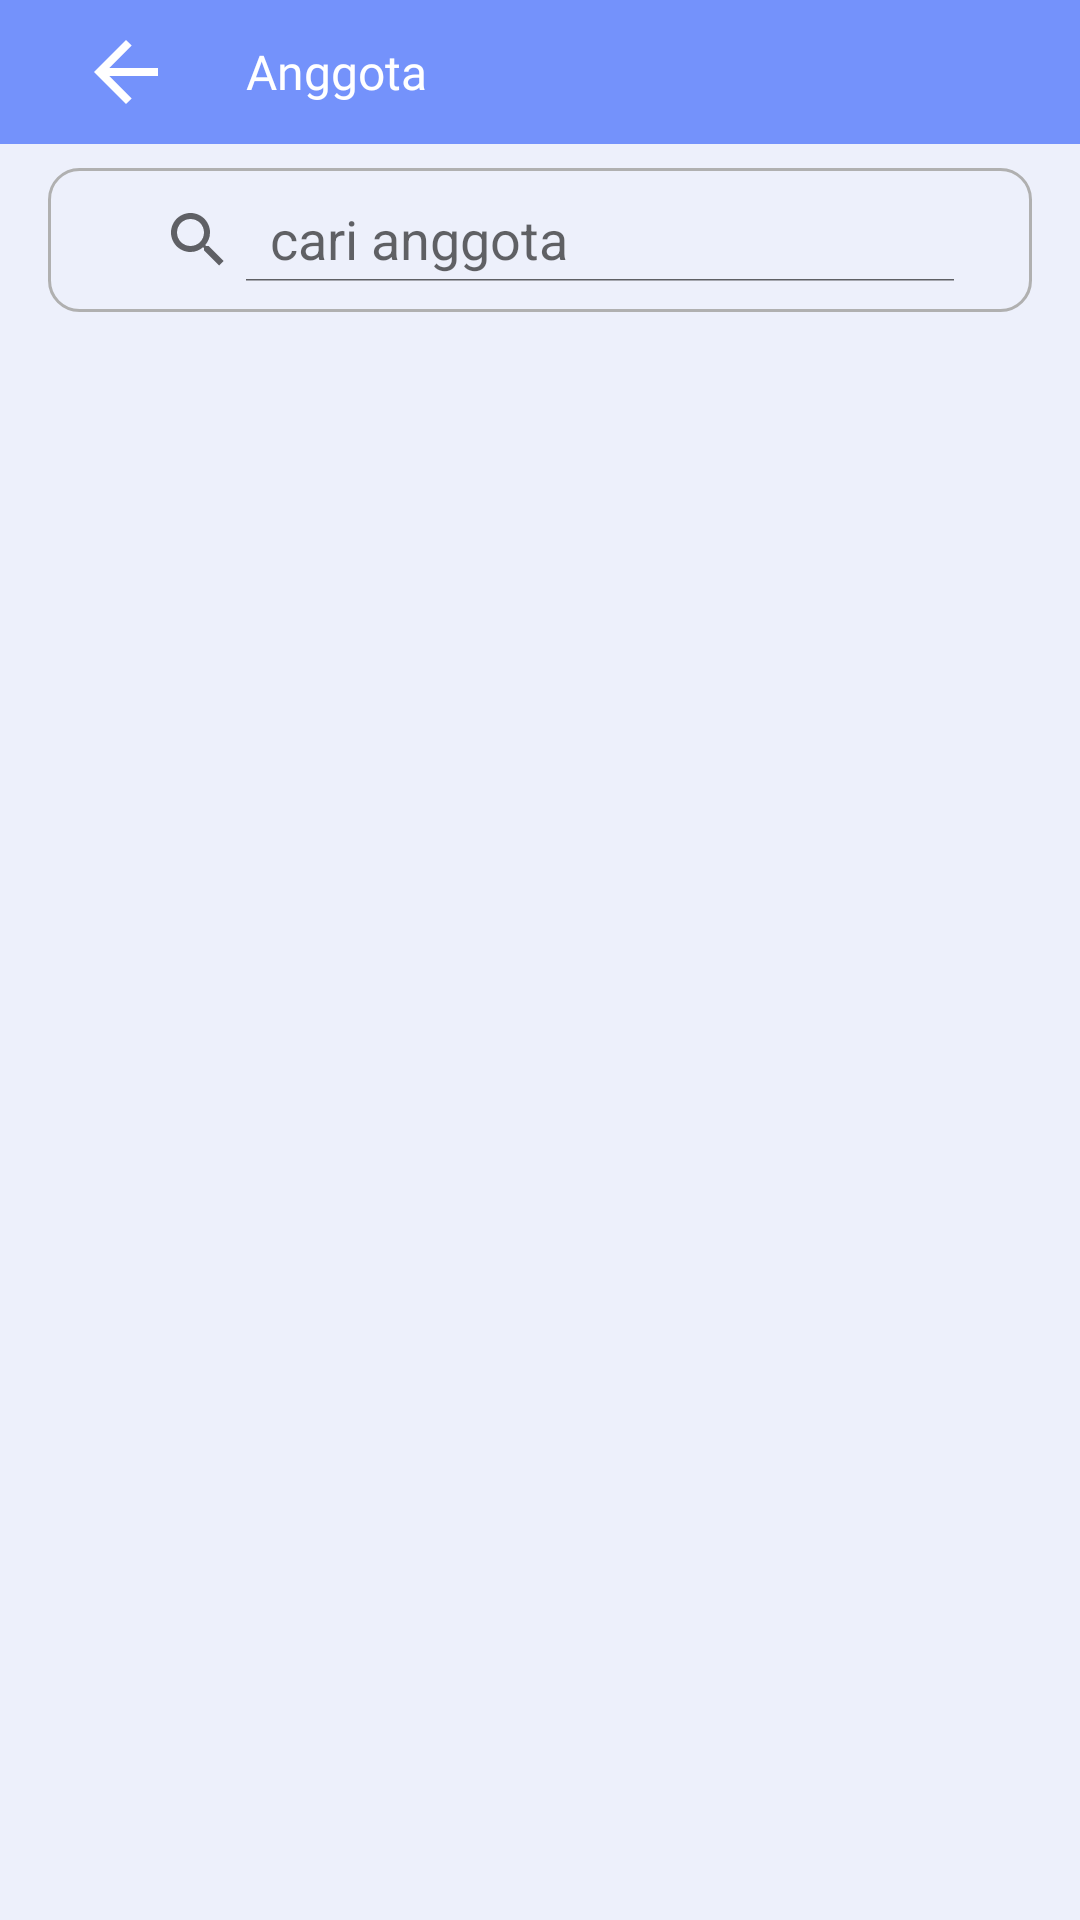

Named icons in this screenshot (1080×1920) and their centers, (x=x, y=y):
arrow back: (x=126, y=72)
